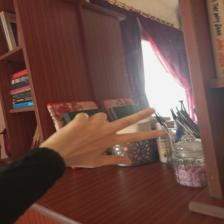three: (36, 101, 176, 190)
